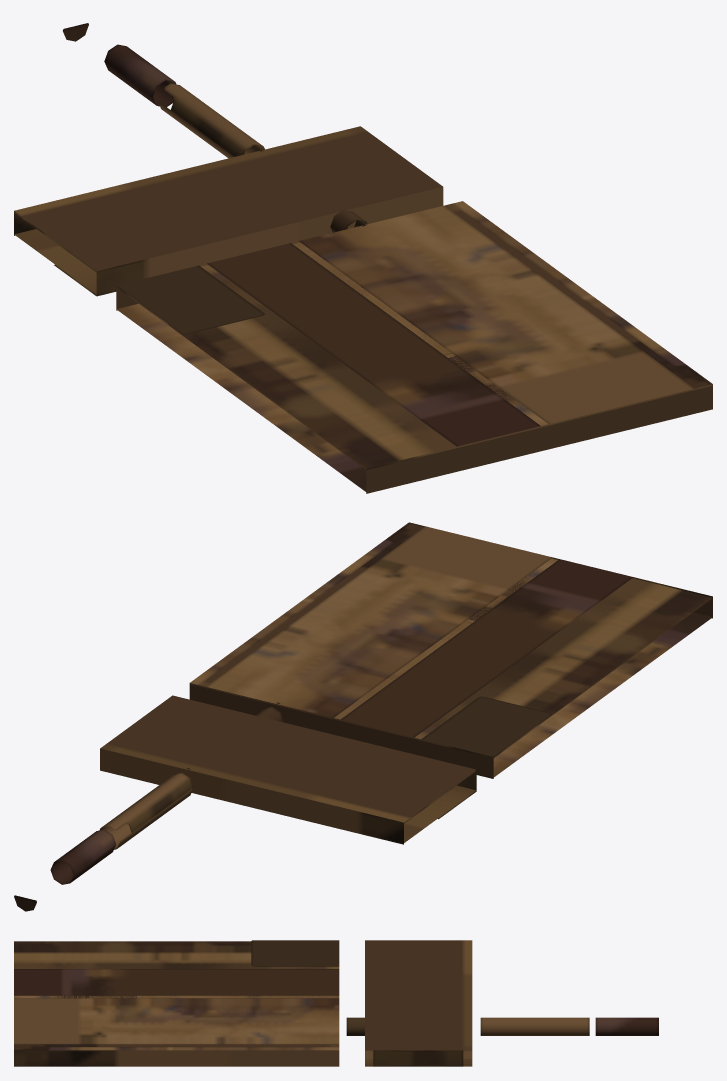
The model's file is section-3.obj.
3 renders of one model, top to bottom at view 1: azimuth 30°, elevation 25°; view 2: azimuth 150°, elevation 25°; view 3: azimuth 270°, elevation 25°, orthographic. The views are drawn at different scales.
Bounding box in the file's own units: 0.92 × 0.07 × 2.47.
